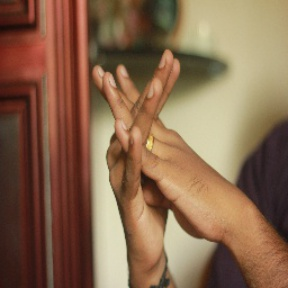W: (85, 42, 215, 239)
